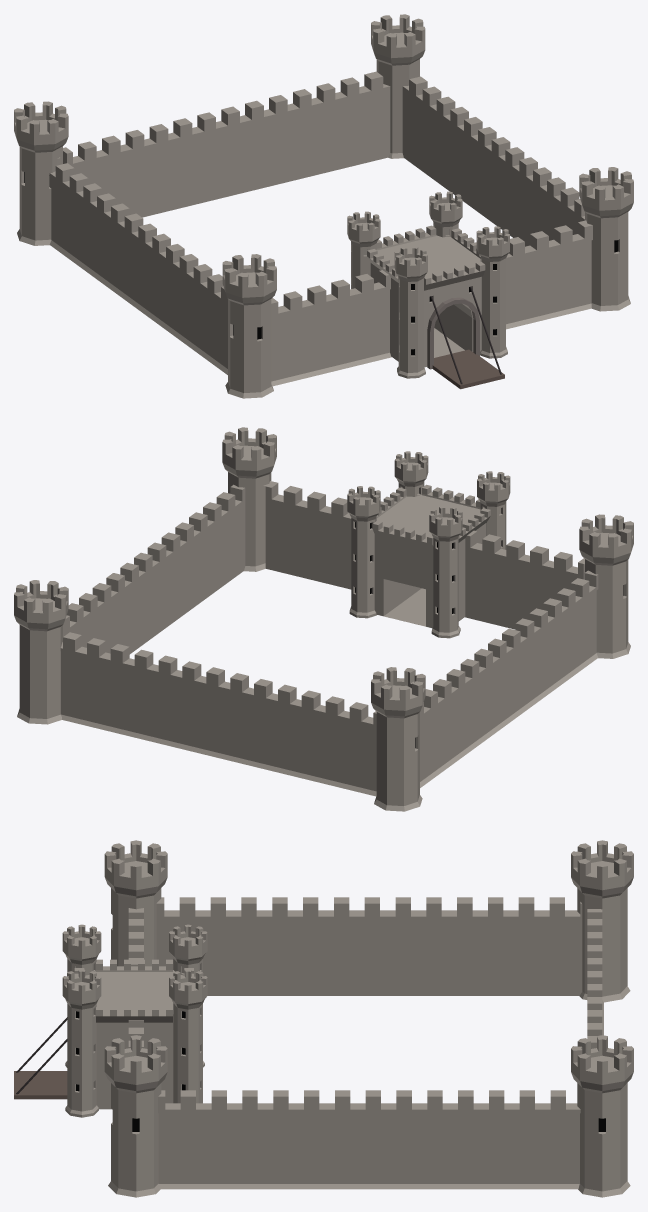
Rendered from 2_2 Castlewalls2.fbx.
3 renders of one model, top to bottom at view 1: azimuth 30°, elevation 25°; view 2: azimuth 150°, elevation 25°; view 3: azimuth 270°, elevation 25°, orthographic. The views are drawn at different scales.
Parts seen in each view (by area): view 1: Castlewall, Castlegate_full, Castlewall.002, Castlewall.003, Castlewall.001, tower_small.002, tower_small.001; view 2: Castlewall, Castlegate_full, Castlewall.003, Castlewall.002, Castlewall.001, tower_small.001, tower_small.002; view 3: Castlewall.001, Castlewall.003, Castlegate_full, tower_small.001, tower_small.002, Castlewall, Castlewall.002.
Boxes of the visible parts, x1=… form: Castlewall: x1=63, y1=71, x2=390, y2=217; Castlegate_full: x1=347, y1=191, x2=509, y2=389; Castlewall.002: x1=271, y1=220, x2=592, y2=386; Castlewall.003: x1=49, y1=157, x2=227, y2=374; Castlewall.001: x1=402, y1=76, x2=584, y2=246; tower_small.002: x1=222, y1=167, x2=633, y2=398; tower_small.001: x1=14, y1=14, x2=425, y2=245; Castlewall: x1=60, y1=632, x2=376, y2=796; Castlegate_full: x1=347, y1=451, x2=510, y2=638; Castlewall.003: x1=420, y1=570, x2=598, y2=787; Castlewall.002: x1=263, y1=481, x2=584, y2=629; Castlewall.001: x1=63, y1=484, x2=245, y2=654; tower_small.001: x1=14, y1=580, x2=425, y2=811; tower_small.002: x1=222, y1=427, x2=633, y2=658; Castlewall.001: x1=158, y1=1090, x2=580, y2=1189; Castlewall.003: x1=156, y1=897, x2=582, y2=995; Castlegate_full: x1=14, y1=924, x2=207, y2=1117; tower_small.001: x1=571, y1=840, x2=633, y2=1197; tower_small.002: x1=104, y1=840, x2=167, y2=1197; Castlewall: x1=587, y1=909, x2=603, y2=1048; Castlewall.002: x1=128, y1=908, x2=143, y2=1048.
Bounding box in the file's own units: 2673 × 772 × 3163.
